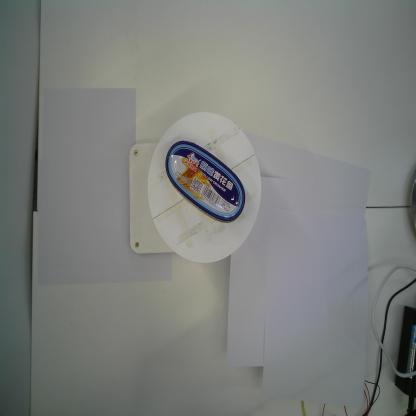Canned Food: (165, 140, 246, 224)
